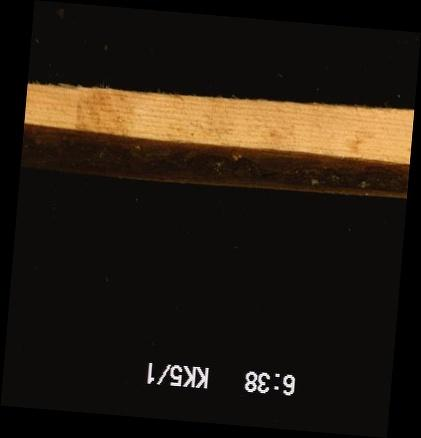wave: (21, 137, 407, 185)
